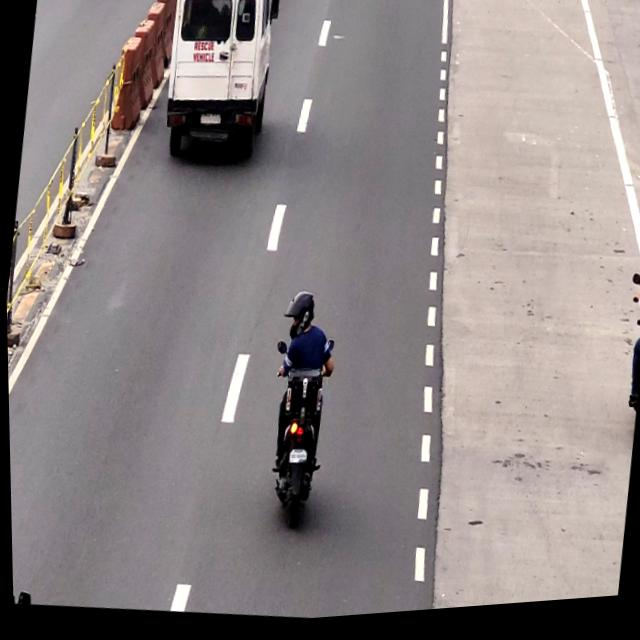Car: (157, 0, 280, 170)
License-Plate: (283, 448, 307, 470)
Motorcycle: (253, 291, 344, 530)
